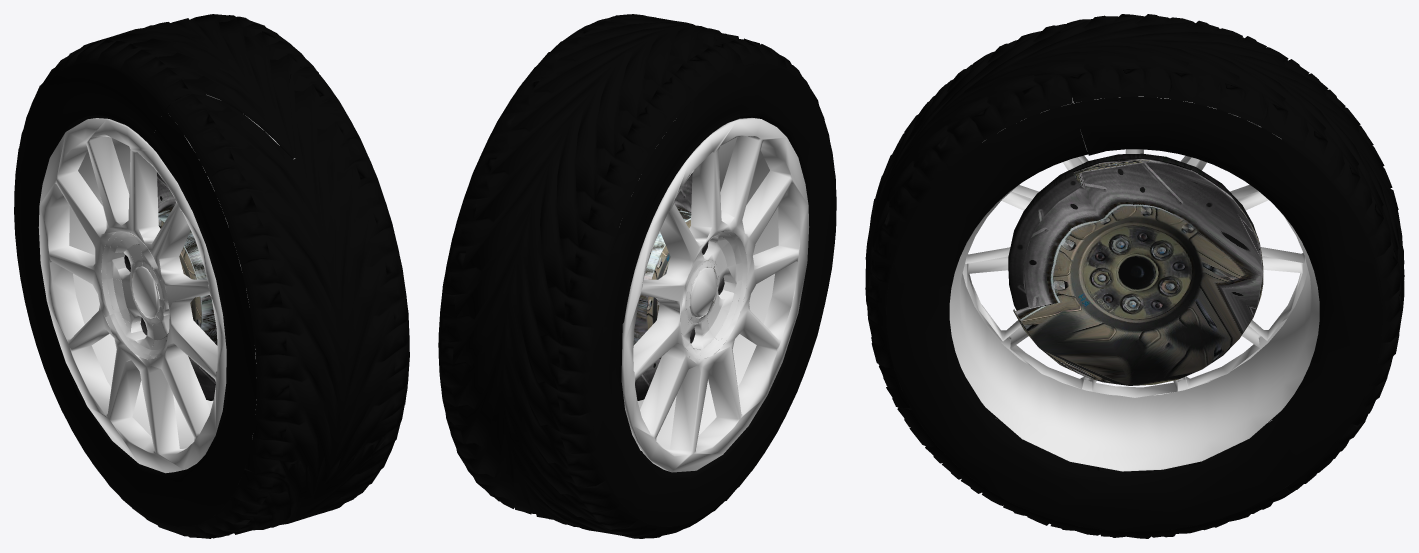
The model's file is veh_05_samand_ef7_wheel.glb.
3 views of the same model, side by side, from view 1: azimuth 30°, elevation 25°; view 2: azimuth 150°, elevation 25°; view 3: azimuth 270°, elevation 25° (orthographic).
Visible parts, largest first — view 1: veh_05_samand_ef7_wheel_mesh; view 2: veh_05_samand_ef7_wheel_mesh; view 3: veh_05_samand_ef7_wheel_mesh.
Part boxes in pixels (<box>): veh_05_samand_ef7_wheel_mesh: <box>14,14,409,538</box>; veh_05_samand_ef7_wheel_mesh: <box>438,14,836,538</box>; veh_05_samand_ef7_wheel_mesh: <box>865,14,1404,538</box>.
Bounding box in the file's own units: 0.2106 × 0.5763 × 0.5961.
Materials: 4 (3 with a texture image).
